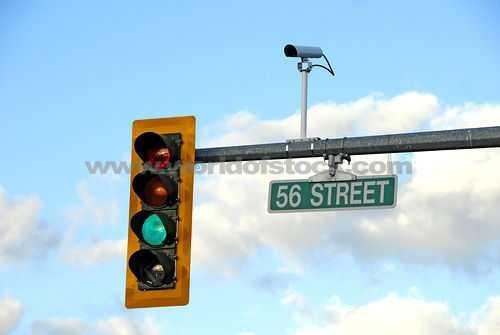green: (127, 112, 191, 310), (128, 203, 180, 249)
